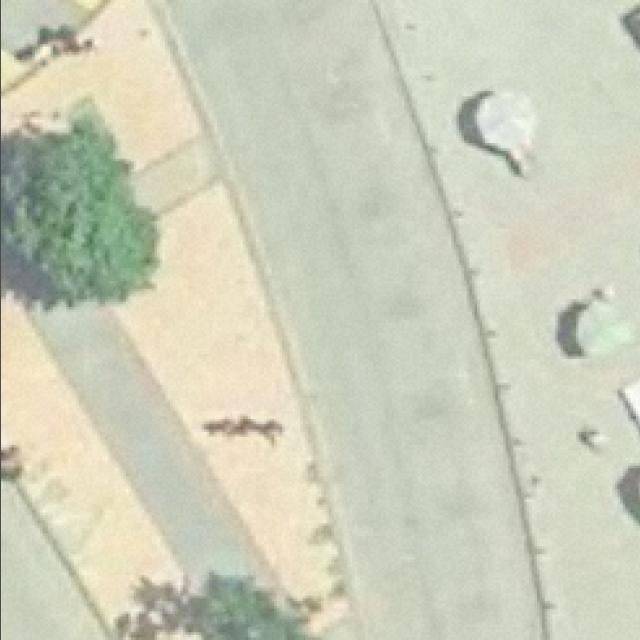vendedor_ambulante: (467, 85, 542, 157), (566, 296, 636, 364), (627, 458, 640, 523)
